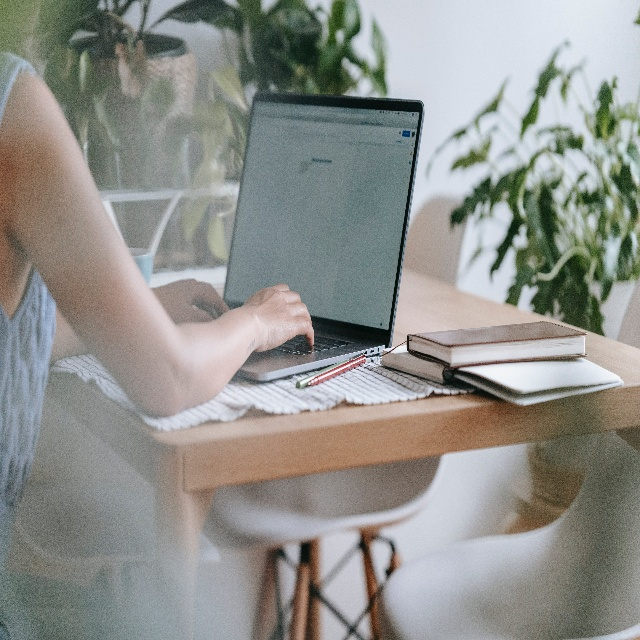Sin_guantes: (242, 272, 316, 355), (149, 277, 231, 327)
